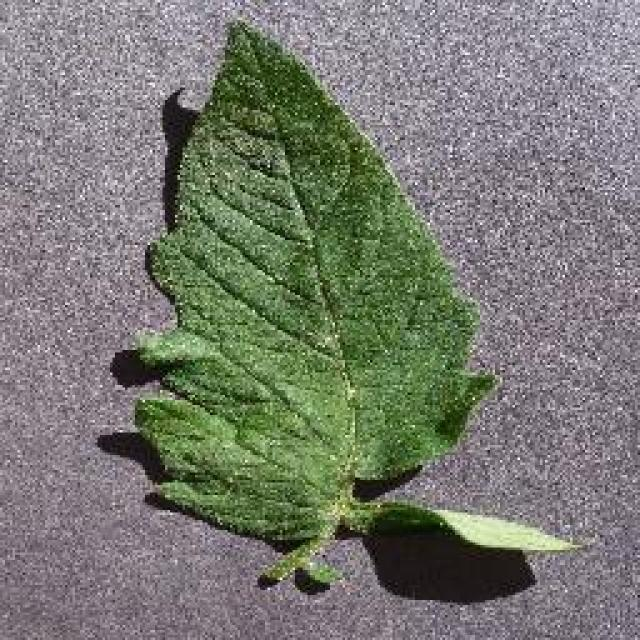Healthy: (120, 2, 598, 610)
